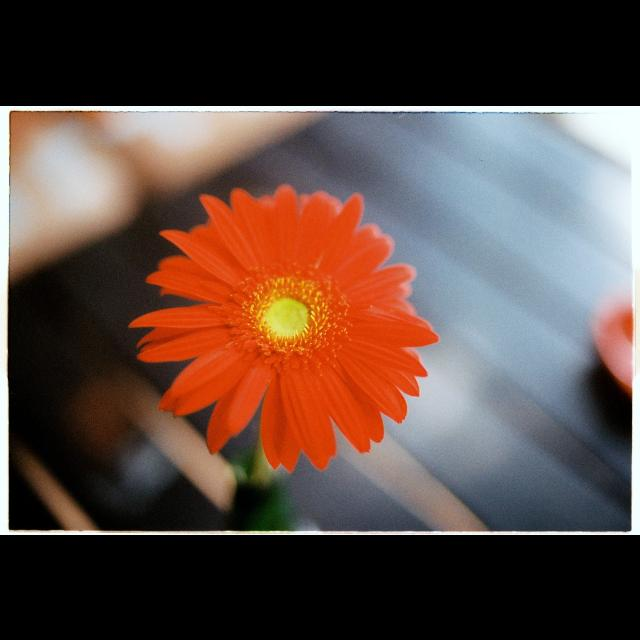Flower: (127, 189, 446, 471)
